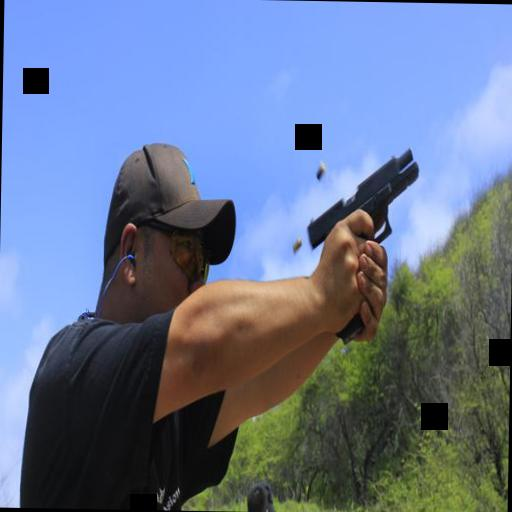Handgun: (298, 127, 429, 326)
